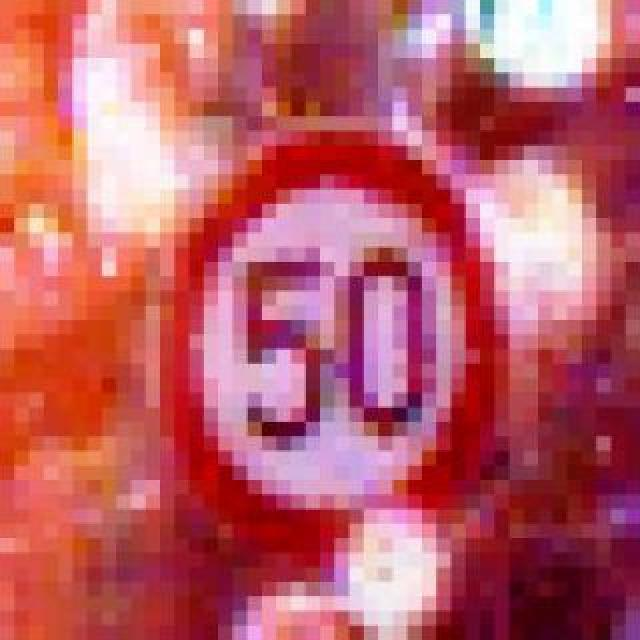50 kph: (132, 116, 480, 524)
